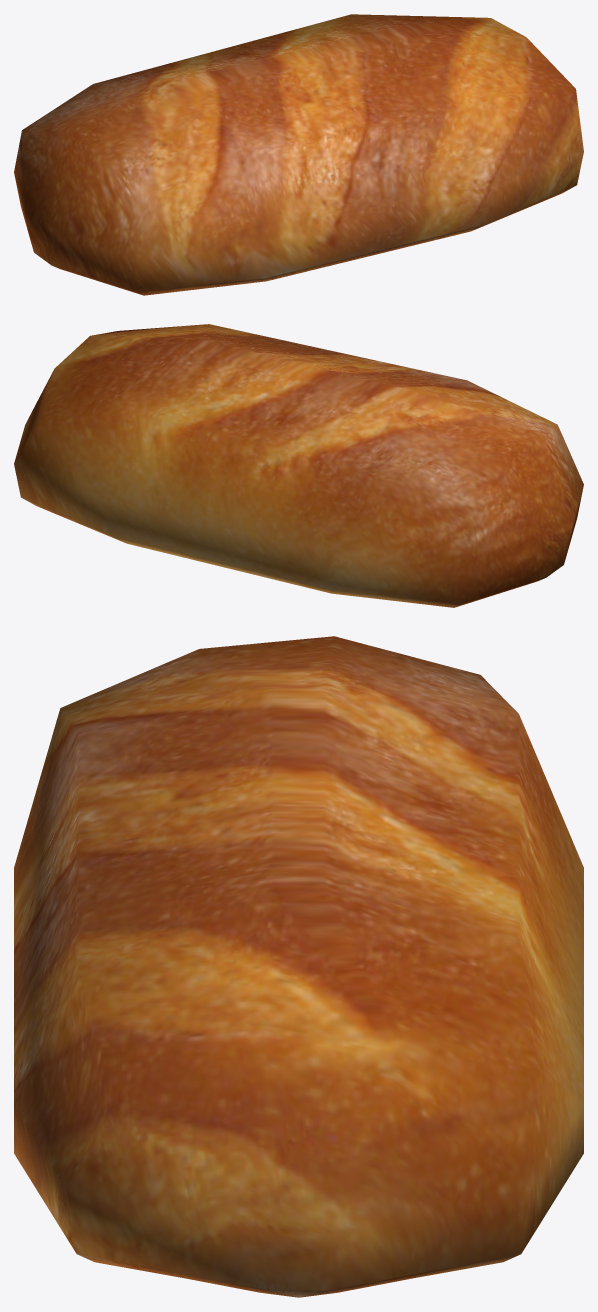
File: Bread_Long.FBX
3 renders of one model, top to bottom at view 1: azimuth 30°, elevation 25°; view 2: azimuth 150°, elevation 25°; view 3: azimuth 270°, elevation 25°, orthographic. The views are drawn at different scales.
Parts seen in each view (by area): view 1: Box001; view 2: Box001; view 3: Box001.
Boxes of the visible parts, x1=… form: Box001: x1=14, y1=14, x2=583, y2=295; Box001: x1=14, y1=324, x2=583, y2=607; Box001: x1=14, y1=636, x2=583, y2=1297.
Size of the model in its own units: 92.44 by 25.46 by 46.95.
1 material, 1 textured.
